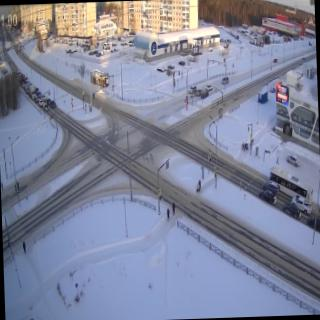large-vehicle: (268, 163, 314, 206)
small-vehicle: (290, 190, 310, 213), (258, 186, 276, 208), (282, 200, 300, 218), (306, 211, 320, 231), (264, 178, 278, 196), (45, 96, 57, 106), (41, 99, 48, 112), (188, 85, 196, 96), (204, 83, 212, 94), (200, 88, 207, 100), (222, 78, 230, 87), (41, 90, 48, 100), (28, 88, 35, 98), (34, 88, 40, 98), (27, 78, 33, 88), (35, 97, 42, 105), (25, 84, 29, 96), (14, 72, 20, 80), (22, 82, 28, 88), (24, 78, 28, 86), (19, 78, 23, 86), (22, 73, 26, 81), (197, 88, 200, 97), (18, 70, 22, 76)
